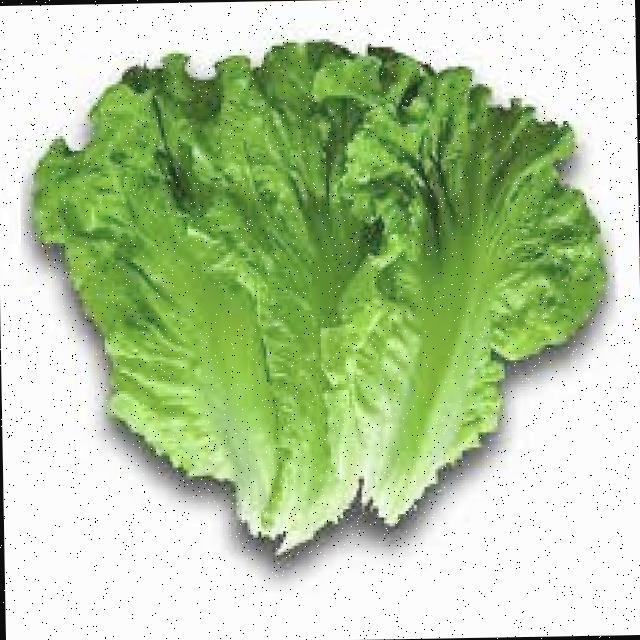healthy: (110, 94, 490, 410)
